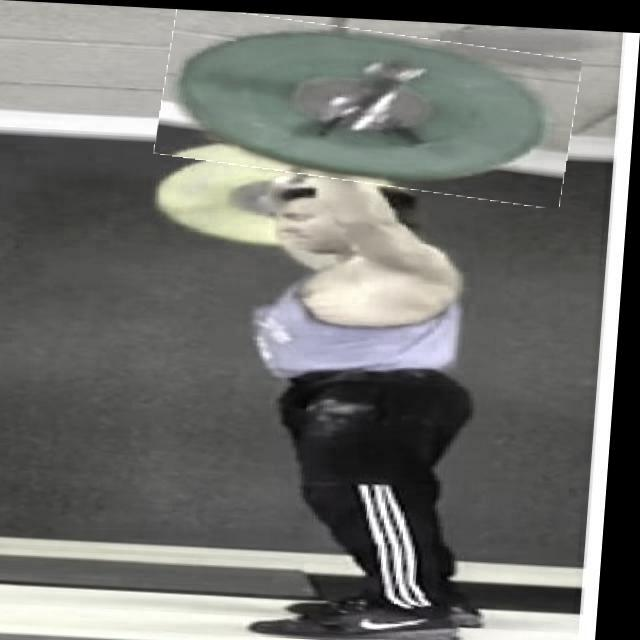barbell: (158, 11, 582, 196)
